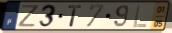3: (38, 3, 59, 29)
7: (86, 3, 106, 29)
9: (112, 4, 130, 29)
L: (132, 4, 149, 29)
T: (67, 5, 84, 28)
Z: (16, 5, 41, 28)
